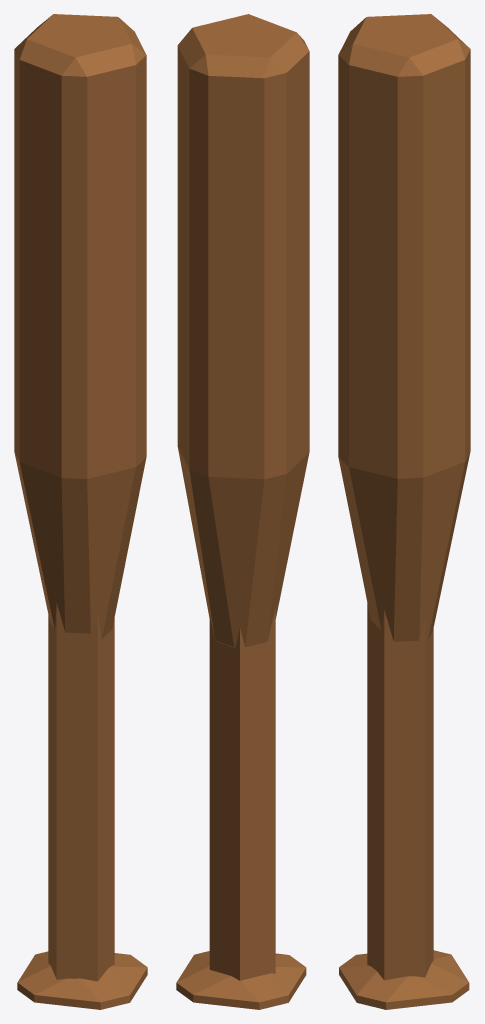
File: bonk_stick.fbx
3 renders of one model, left to right at view 1: azimuth 30°, elevation 25°; view 2: azimuth 210°, elevation 25°; view 3: azimuth 330°, elevation 25°, orthographic.
Visible parts, largest first — view 1: bonk_stick, bonk_handle_end, bonk_stick_handle; view 2: bonk_stick, bonk_handle_end, bonk_stick_handle; view 3: bonk_stick, bonk_handle_end, bonk_stick_handle.
Part boxes in pixels (left/top/right/bottom): bonk_stick: left=14, top=14, right=146, bottom=638; bonk_handle_end: left=48, top=603, right=114, bottom=981; bonk_stick_handle: left=17, top=951, right=147, bottom=1009; bonk_stick: left=177, top=14, right=309, bottom=647; bonk_handle_end: left=209, top=608, right=275, bottom=980; bonk_stick_handle: left=176, top=951, right=306, bottom=1009; bonk_stick: left=338, top=14, right=470, bottom=641; bonk_handle_end: left=367, top=603, right=433, bottom=980; bonk_stick_handle: left=339, top=950, right=469, bottom=1009.
Size of the model in its own units: 11.87 by 94.44 by 11.78.
